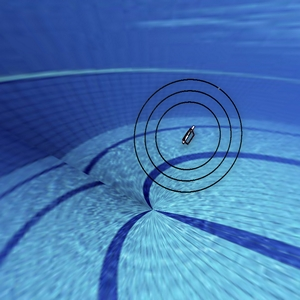circle: (120, 68, 248, 199)
submarine: (178, 122, 200, 152)
